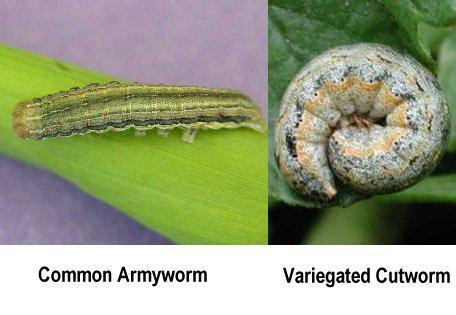caterpillars: (4, 45, 272, 217), (268, 28, 456, 224)
